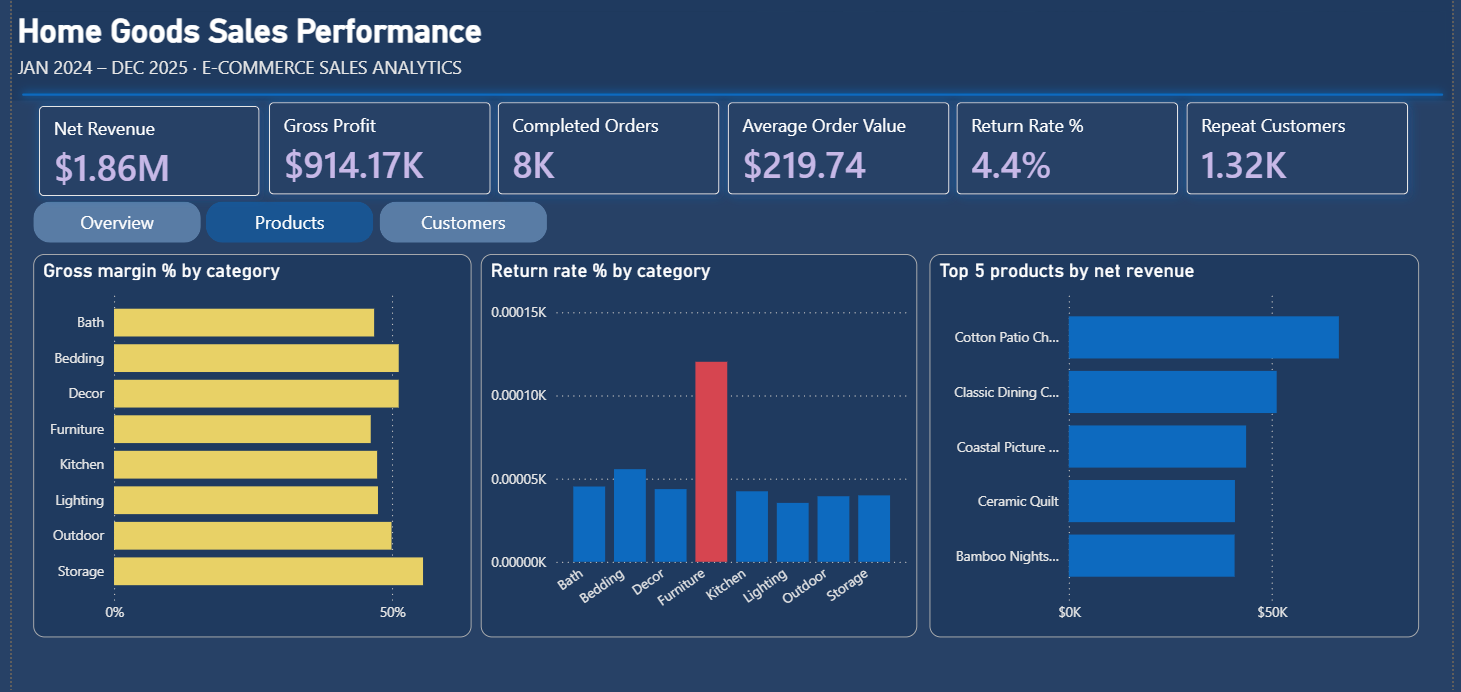

The dashboard page shown, as its layout file describes it:
{"tool":"powerbi","page":{"name":"Products","canvas":[1280,720],"ordinal":1},"visuals":[{"type":"shape","box":[0,0,1279.7,90.5],"z":0},{"type":"actionButton","box":[18.3,179.8,149.2,36.7],"z":0},{"type":"textbox","title":"Home Goods Sales Performance","box":[0,10.8,1279.7,60.8],"z":1000},{"type":"actionButton","box":[172.4,179.8,149.2,36.7],"z":1000},{"type":"shape","box":[1.1,10,1278.9,150],"z":2000},{"type":"actionButton","box":[326.5,179.8,149.2,36.7],"z":2000},{"type":"cardVisual","fields":{"Data":["ecommerce_analytics order_items.Net Revenue"]},"box":[0,71.1,244.7,128.9],"z":3000},{"type":"cardVisual","fields":{"Data":["ecommerce_analytics order_items.Gross Profit"]},"box":[204,68,245,130],"z":4000},{"type":"cardVisual","fields":{"Data":["ecommerce_analytics order_items.Completed Orders"]},"box":[408,68,245,130],"z":5000},{"type":"cardVisual","fields":{"Data":["ecommerce_analytics order_items.Average Order Value"]},"box":[612,68,245,130],"z":6000},{"type":"cardVisual","fields":{"Data":["ecommerce_analytics order_items.Return Rate %"]},"box":[816,68,245,130],"z":7000},{"type":"cardVisual","fields":{"Data":["ecommerce_analytics order_items.Repeat Customers"]},"box":[1020,68,245,130],"z":8000},{"type":"clusteredBarChart","title":"Gross margin % by category","fields":{"Category":["ecommerce_analytics products.category"],"Y":["ecommerce_analytics order_items.Gross Margin %"]},"box":[18.4,226.3,389.5,340.8],"z":10000},{"type":"clusteredColumnChart","title":"Return rate % by category","fields":{"Category":["ecommerce_analytics products.category"],"Y":["ecommerce_analytics products.Return Rate by Category"]},"box":[417.1,226.3,388.2,340.8],"z":11000},{"type":"clusteredBarChart","title":"Top 5 products by net revenue","fields":{"Category":["ecommerce_analytics products.product_name"],"Y":["ecommerce_analytics order_items.Net Revenue"]},"box":[815.8,226.3,435.5,340.8],"z":12000}]}

Visuals, with their boxes on the page's 1280x720 design canvas (x1, y1, x2, y2). These are canvas units, not pixel positions in the 1461x692 screenshot, which may show the page scaled, cropped or inside an application window:
shape: x1=0 y1=0 x2=1280 y2=90
actionButton: x1=18 y1=180 x2=168 y2=216
"Home Goods Sales Performance" textbox: x1=0 y1=11 x2=1280 y2=72
actionButton: x1=172 y1=180 x2=322 y2=216
shape: x1=1 y1=10 x2=1280 y2=160
actionButton: x1=326 y1=180 x2=476 y2=216
cardVisual - ecommerce_analytics order_items.Net Revenue: x1=0 y1=71 x2=245 y2=200
cardVisual - ecommerce_analytics order_items.Gross Profit: x1=204 y1=68 x2=449 y2=198
cardVisual - ecommerce_analytics order_items.Completed Orders: x1=408 y1=68 x2=653 y2=198
cardVisual - ecommerce_analytics order_items.Average Order Value: x1=612 y1=68 x2=857 y2=198
cardVisual - ecommerce_analytics order_items.Return Rate %: x1=816 y1=68 x2=1061 y2=198
cardVisual - ecommerce_analytics order_items.Repeat Customers: x1=1020 y1=68 x2=1265 y2=198
"Gross margin % by category" clusteredBarChart: x1=18 y1=226 x2=408 y2=567
"Return rate % by category" clusteredColumnChart: x1=417 y1=226 x2=805 y2=567
"Top 5 products by net revenue" clusteredBarChart: x1=816 y1=226 x2=1251 y2=567
